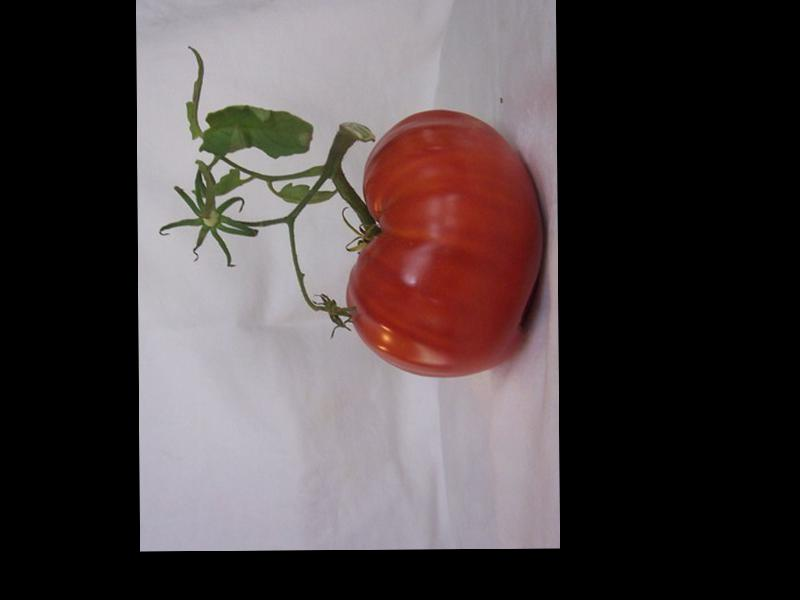Tomato: (345, 107, 545, 378)
